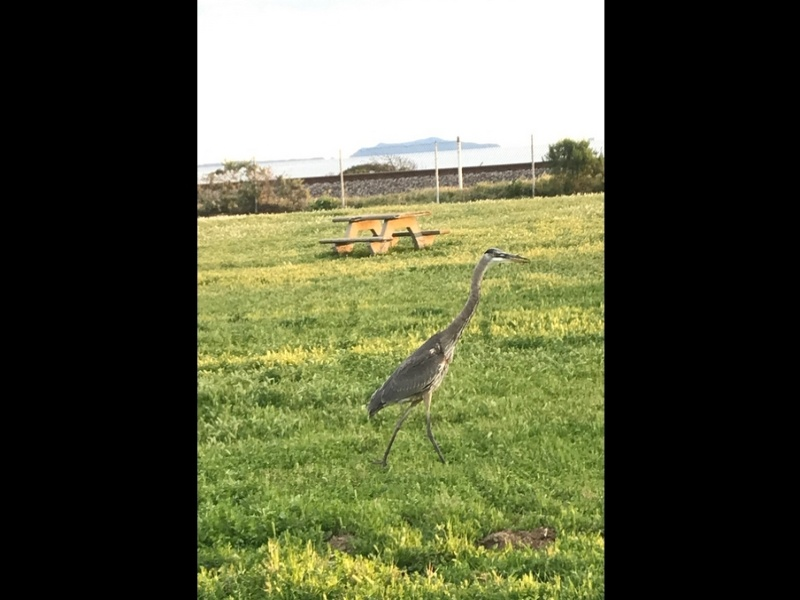heron: (365, 244, 521, 471)
